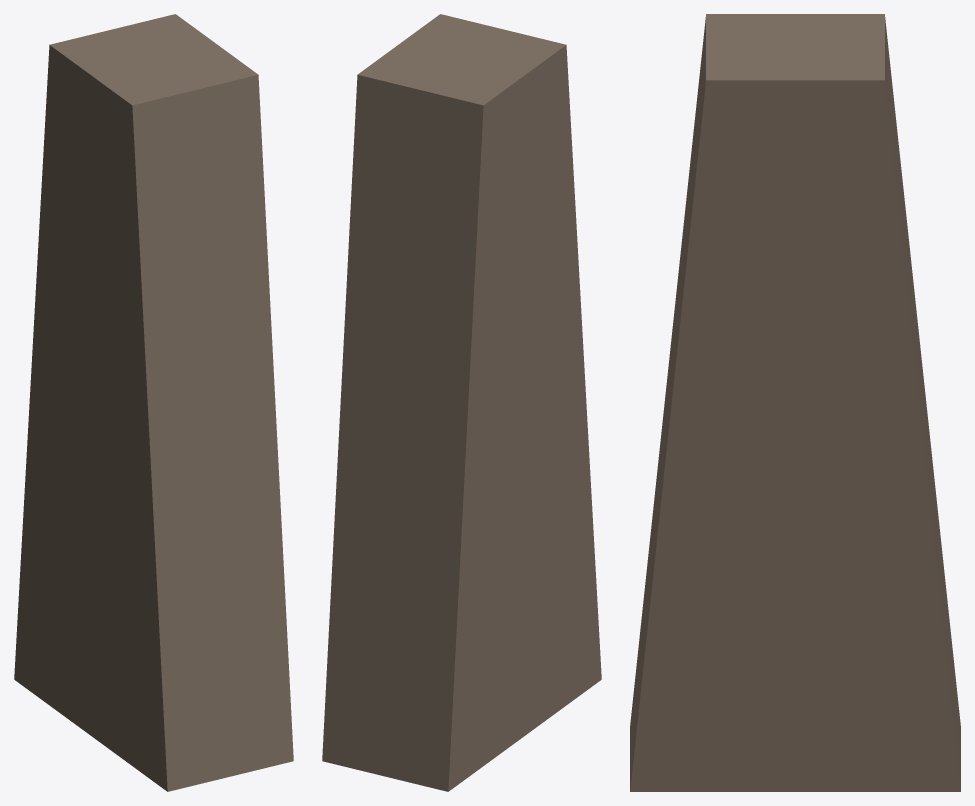
Rendered from Plumbing2_C3_02.fbx.
3 renders of one model, left to right at view 1: azimuth 30°, elevation 25°; view 2: azimuth 150°, elevation 25°; view 3: azimuth 270°, elevation 25°, orthographic. The views are drawn at different scales.
Parts seen in each view (by area): view 1: Plumbing2_C3_02; view 2: Plumbing2_C3_02; view 3: Plumbing2_C3_02.
Boxes of the visible parts, bbox=[...] form: Plumbing2_C3_02: bbox=[14, 14, 293, 791]; Plumbing2_C3_02: bbox=[322, 14, 601, 791]; Plumbing2_C3_02: bbox=[630, 14, 960, 791].
Size of the model in its own units: 1.02 by 5.12 by 2.15.
